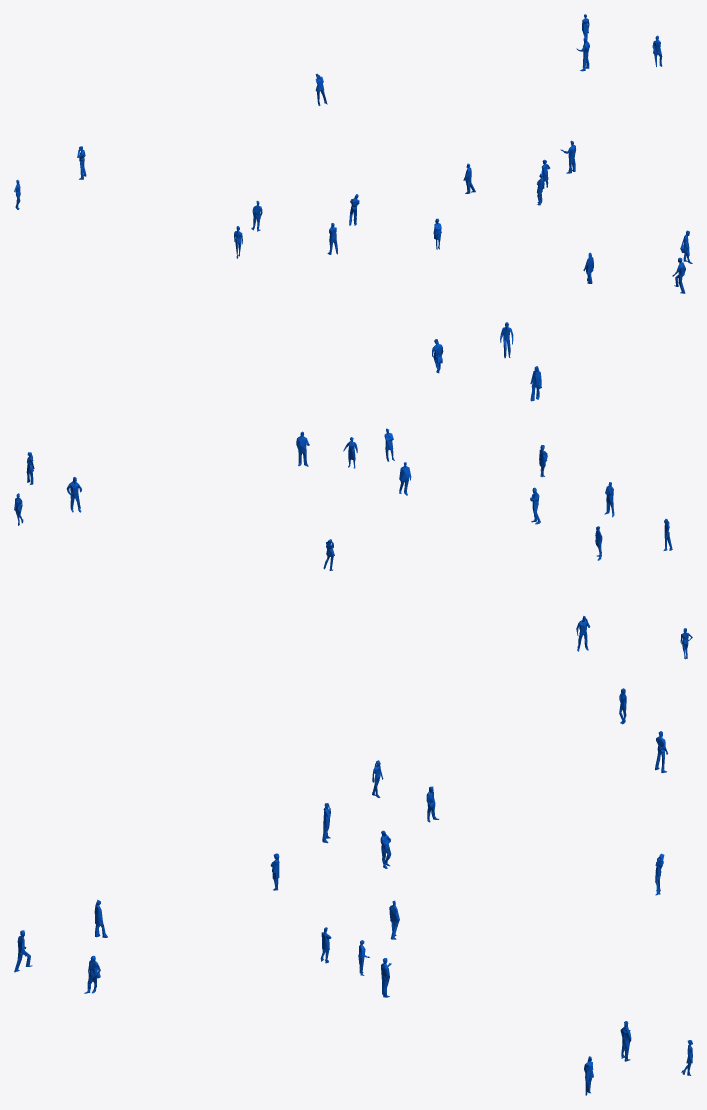
Rendered from mandegar_crowd.glb.
3 renders of one model, top to bottom at view 1: azimuth 30°, elevation 25°; view 2: azimuth 150°, elevation 25°; view 3: azimuth 270°, elevation 25°, orthographic. The views are drawn at different scales.
Size of the model in its own units: 34.7 by 2.55 by 26.53.
